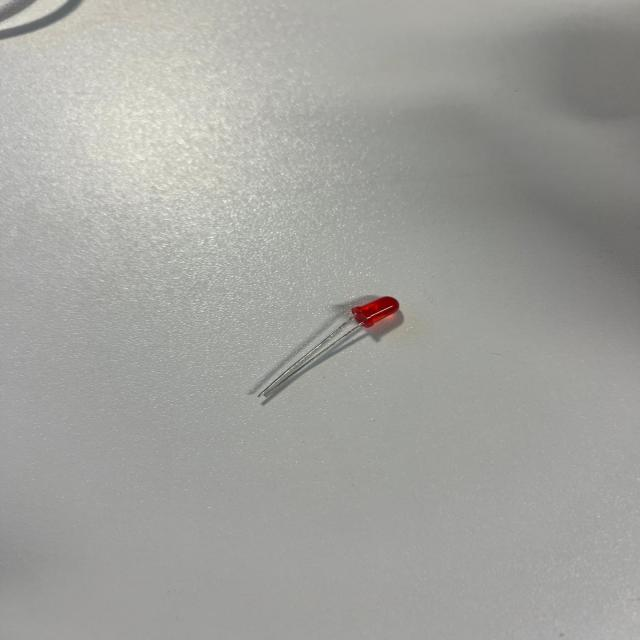REDLed: (240, 284, 424, 430)
